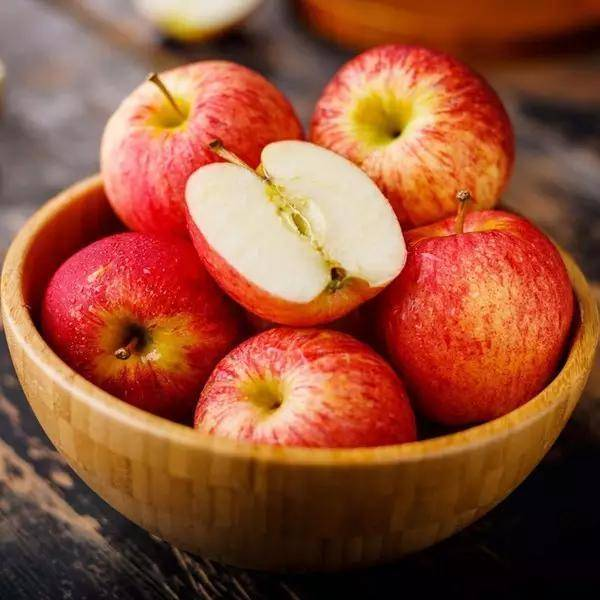fruit_apple: (296, 32, 523, 232), (384, 194, 576, 429), (185, 310, 438, 487), (37, 221, 258, 418), (91, 47, 313, 242)
